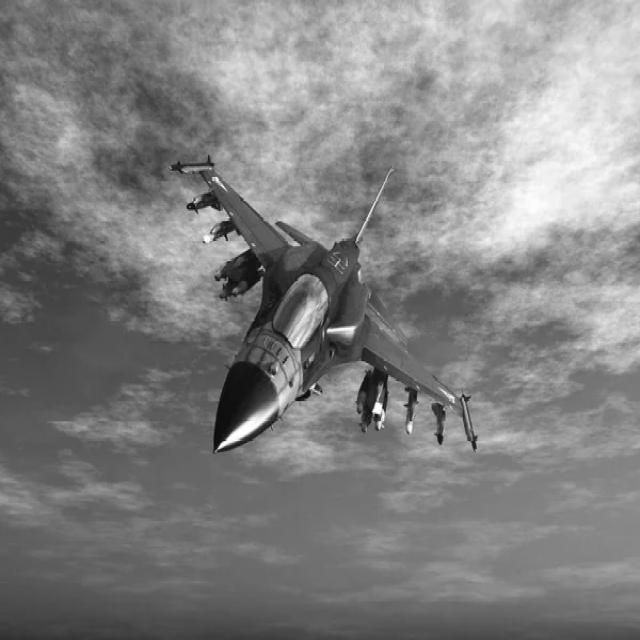Aircraft: (166, 144, 488, 460)
